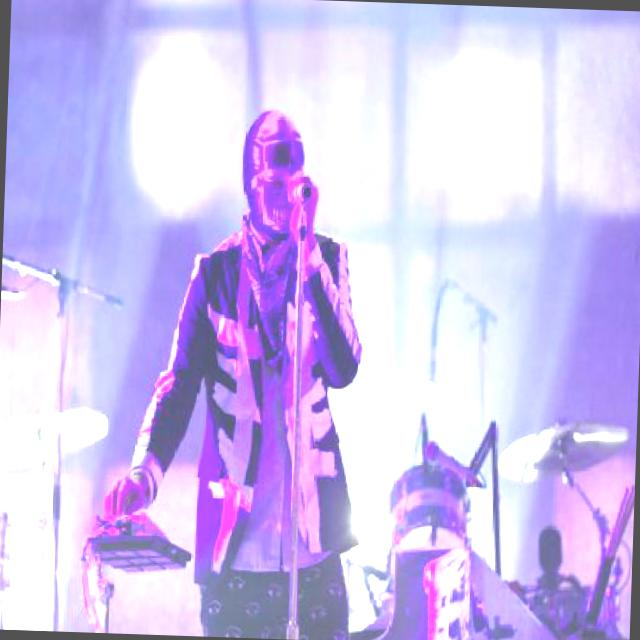Person: (98, 102, 373, 640)
